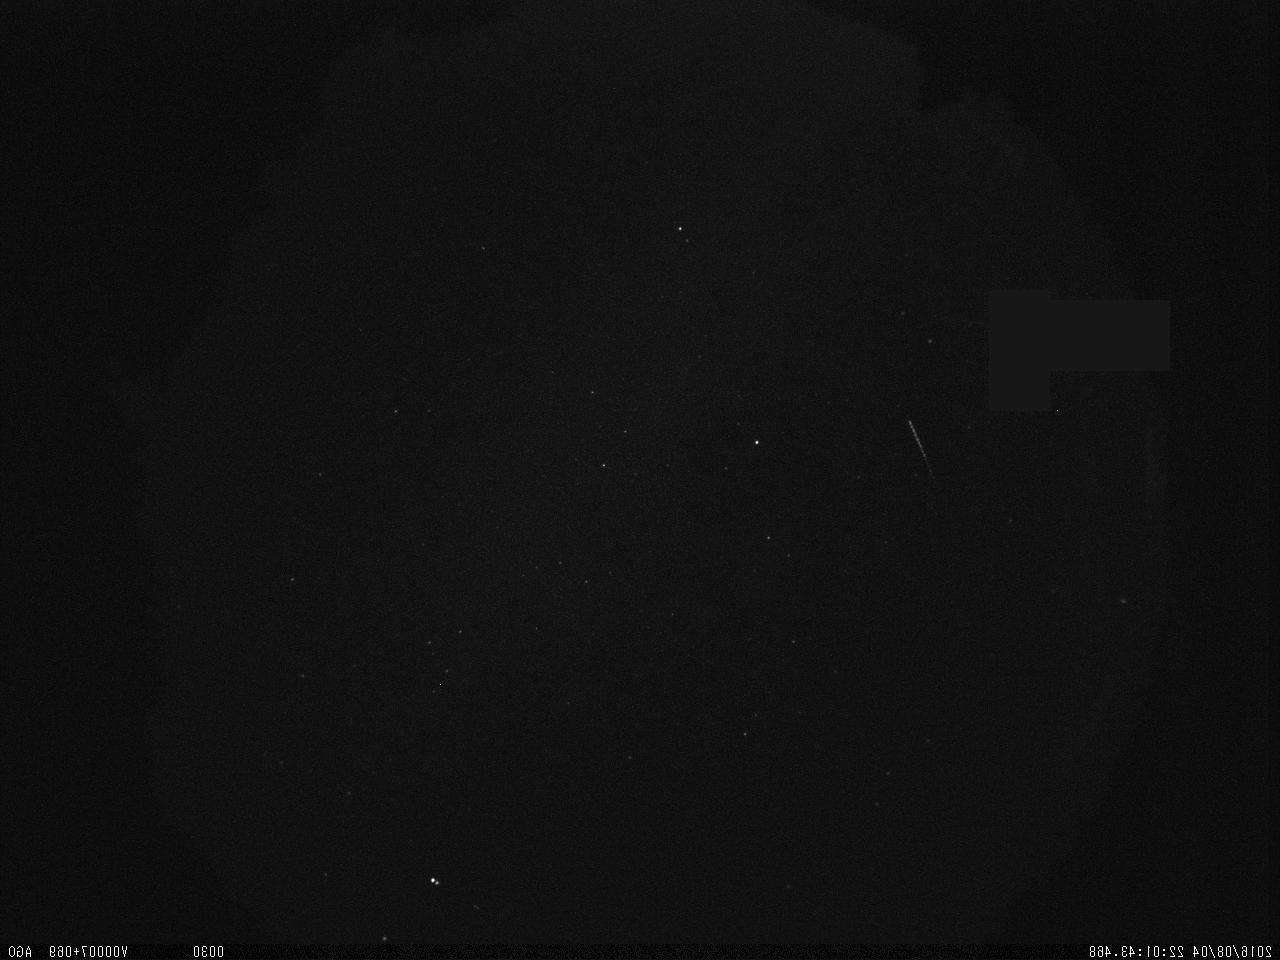meteor: (883, 405, 945, 483)
